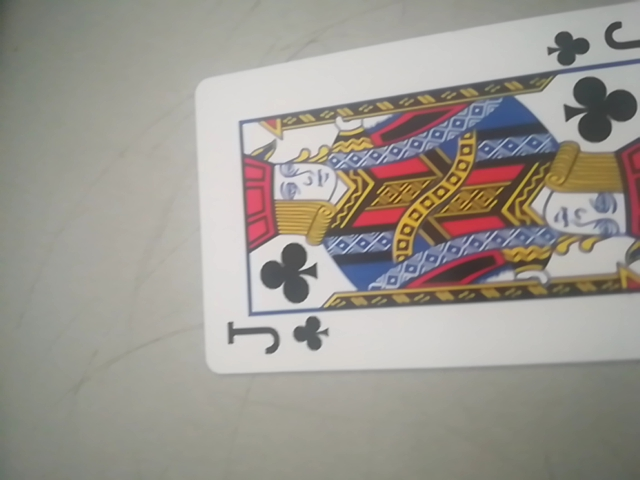mh j: (190, 11, 640, 379)
